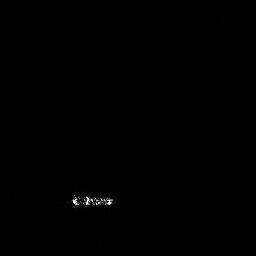ship: (67, 190, 115, 214)
